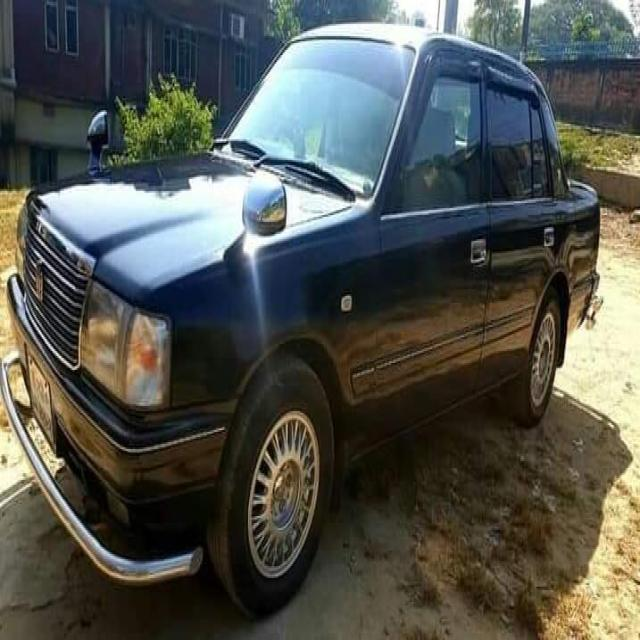black: (19, 35, 612, 576)
